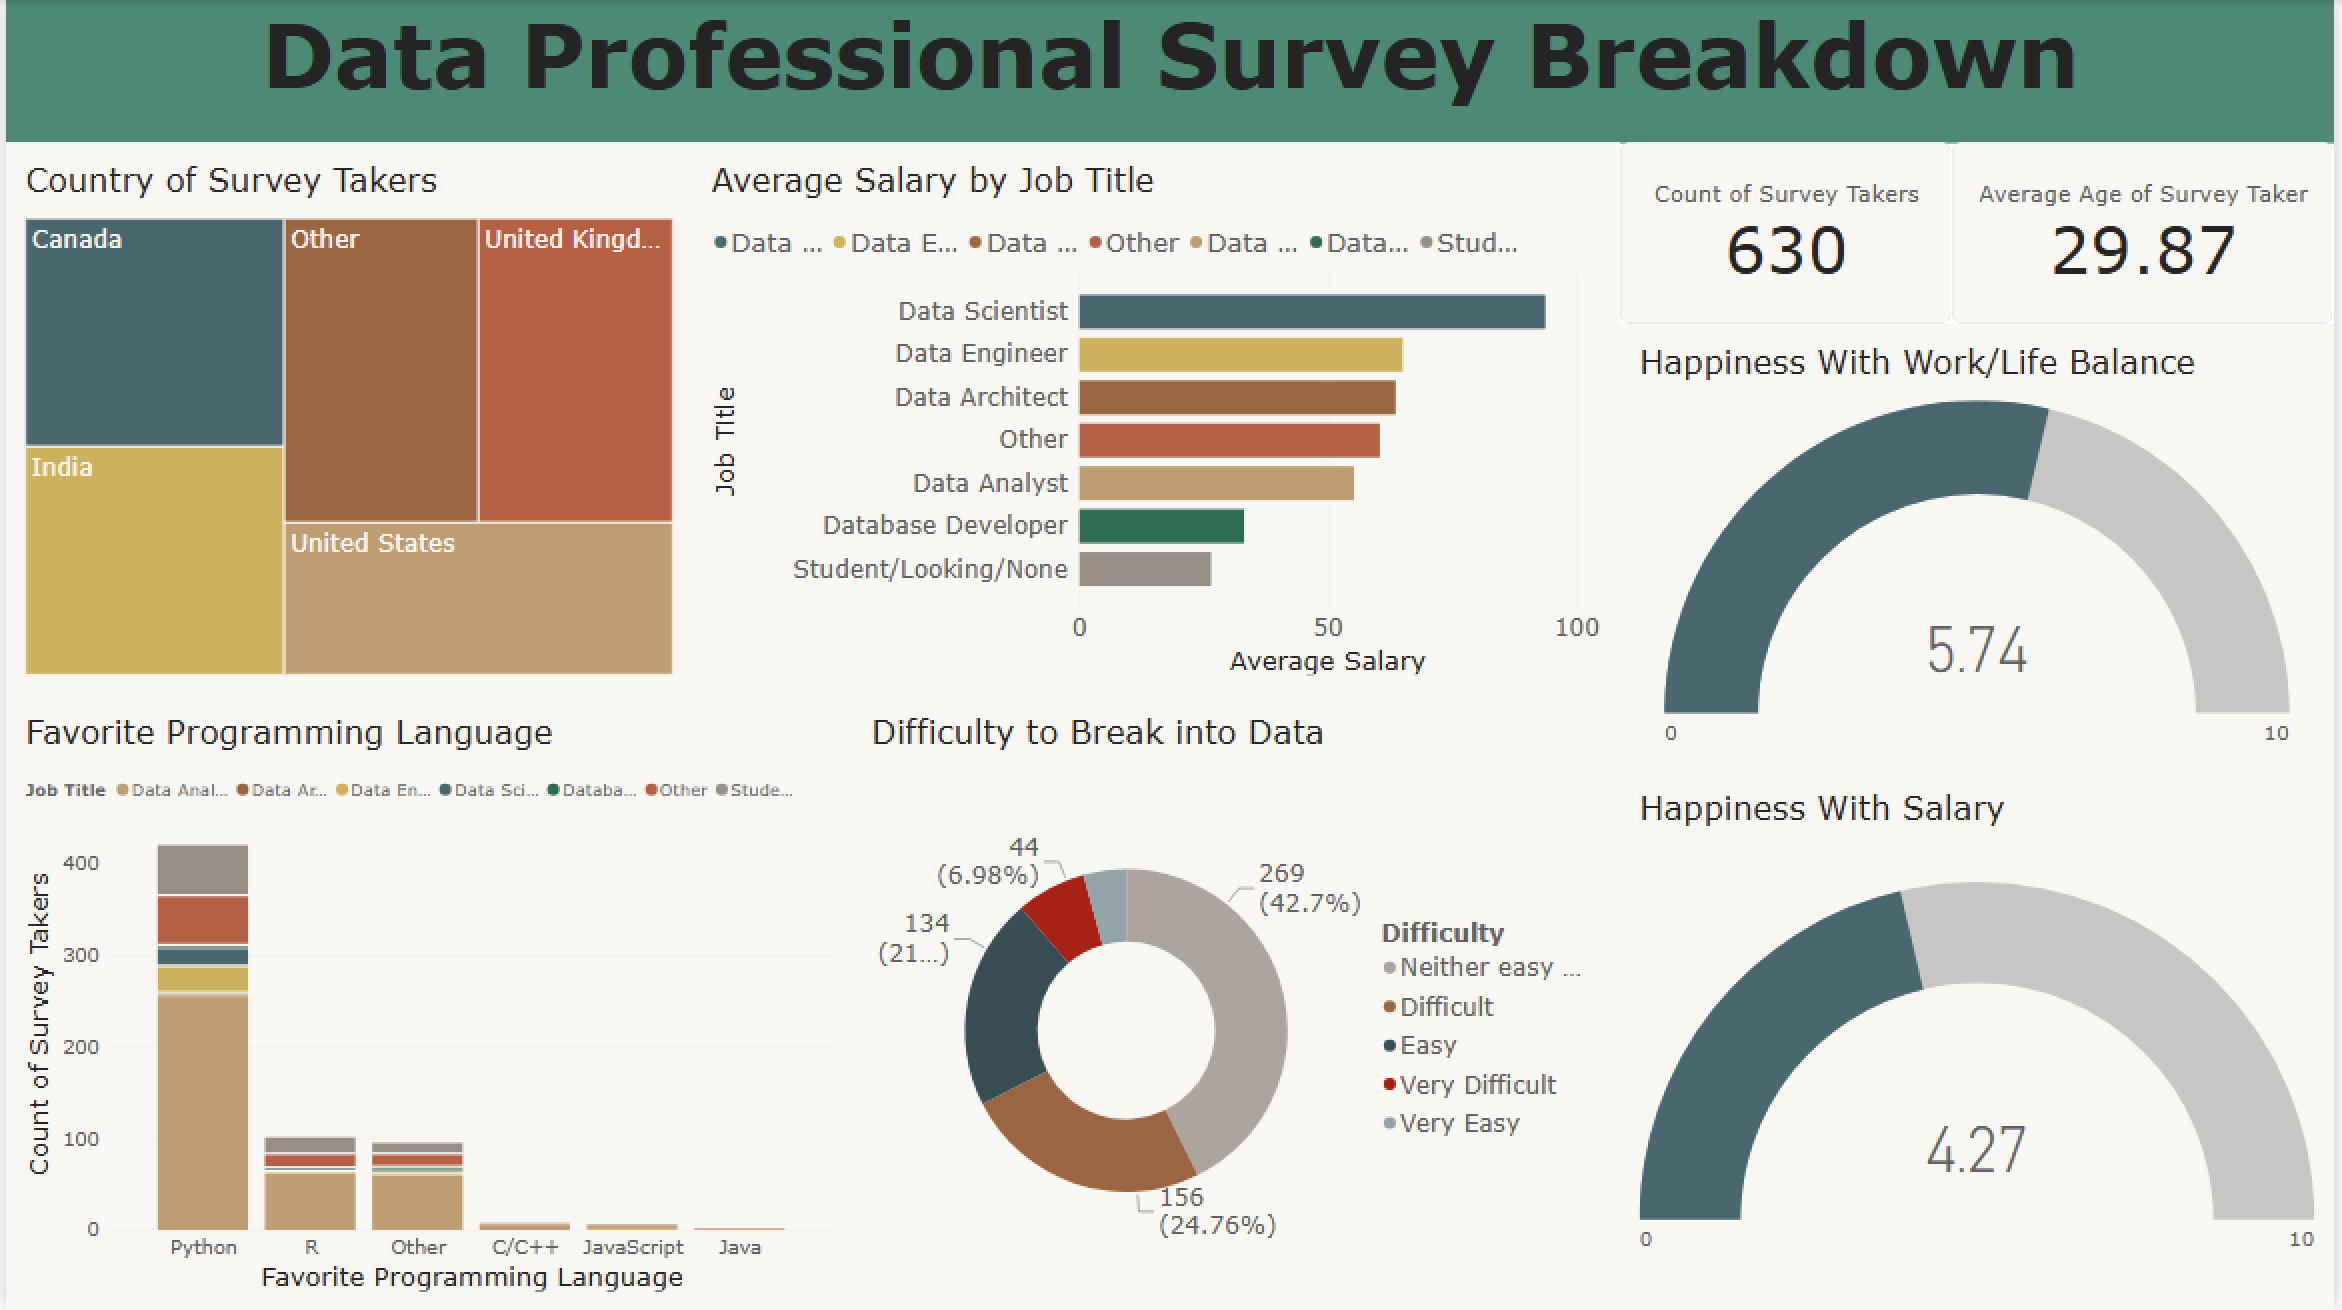

What the dashboard file says about the page in this screenshot:
{"tool":"powerbi","page":{"name":"Page 1","canvas":[1920,1080],"ordinal":0},"visuals":[{"type":"textbox","box":[0,0,1920,117.7],"z":0},{"type":"cardVisual","fields":{"Data":["Count(Data Professional Survey.Unique ID)"]},"box":[1330.6,117.1,273.7,150],"z":1000},{"type":"cardVisual","fields":{"Data":["Avg(Data Professional Survey.Q10 - Current Age)"]},"box":[1604.3,117.1,314.9,150],"z":2000},{"type":"barChart","title":"Average Salary by Job Title","fields":{"Category":["Data Professional Survey.Q1 - Which Title Best Fits your Current Role?.1"],"Series":["Data Professional Survey.Q1 - Which Title Best Fits your Current Role?.1"],"Y":["Avg(Data Professional Survey.Average Salary)"]},"box":[565.6,117.1,765.1,455.1],"z":3000},{"type":"columnChart","title":"Favorite Programming Language","fields":{"Category":["Data Professional Survey.Q5 - Favorite Programming Language.1"],"Series":["Data Professional Survey.Q1 - Which Title Best Fits your Current Role?.1"],"Y":["CountNonNull(Data Professional Survey.Unique ID)"]},"box":[0,572.2,697.5,507.8],"z":4000},{"type":"treemap","title":"Country of Survey Takers","fields":{"Group":["Data Professional Survey.Q11 - Which Country do you live in?.1"],"Values":["Count(Data Professional Survey.Q11 - Which Country do you live in?.1)"]},"box":[0,117.1,565.6,455.1],"z":5000},{"type":"gauge","title":"Happiness With Work/Life Balance","fields":{"MaxValue":["Max(Data Professional Survey.Q6 - How Happy are you in your Current Position with the following? (Work/Life Balance))2"],"MinValue":["Min(Data Professional Survey.Q6 - How Happy are you in your Current Position with the following? (Work/Life Balance))1"],"Y":["Avg(Data Professional Survey.Q6 - How Happy are you in your Current Position with the following? (Work/Life Balance))"]},"box":[1330.6,267.1,588.6,367.7],"z":6000},{"type":"gauge","title":"Happiness With Salary","fields":{"MaxValue":["Max(Data Professional Survey.Q6 - How Happy are you in your Current Position with the following? (Salary))"],"MinValue":["Min(Data Professional Survey.Q6 - How Happy are you in your Current Position with the following? (Salary))"],"Y":["Avg(Data Professional Survey.Q6 - How Happy are you in your Current Position with the following? (Salary))"]},"box":[1330.6,634.8,588.6,446.8],"z":7000},{"type":"donutChart","title":"Difficulty to Break into Data","fields":{"Category":["Data Professional Survey.Q7 - How difficult was it for you to break into Data?"],"Y":["CountNonNull(Data Professional Survey.Q7 - How difficult was it for you to break into Data?)"]},"box":[697.5,572.2,633.2,507.8],"z":8000}]}

Visuals, with their boxes in screenshot pixels (x1, y1, x2, y2), scaled from the page's 1920x1080 canvas onto the 2342x1310 screenshot:
textbox: crop(0, 0, 2341, 143)
cardVisual - Count(Data Professional Survey.Unique ID): crop(1623, 142, 1957, 324)
cardVisual - Avg(Data Professional Survey.Q10 - Current Age): crop(1957, 142, 2341, 324)
"Average Salary by Job Title" barChart: crop(690, 142, 1623, 694)
"Favorite Programming Language" columnChart: crop(0, 694, 851, 1309)
"Country of Survey Takers" treemap: crop(0, 142, 690, 694)
"Happiness With Work/Life Balance" gauge: crop(1623, 324, 2341, 770)
"Happiness With Salary" gauge: crop(1623, 770, 2341, 1309)
"Difficulty to Break into Data" donutChart: crop(851, 694, 1623, 1309)
